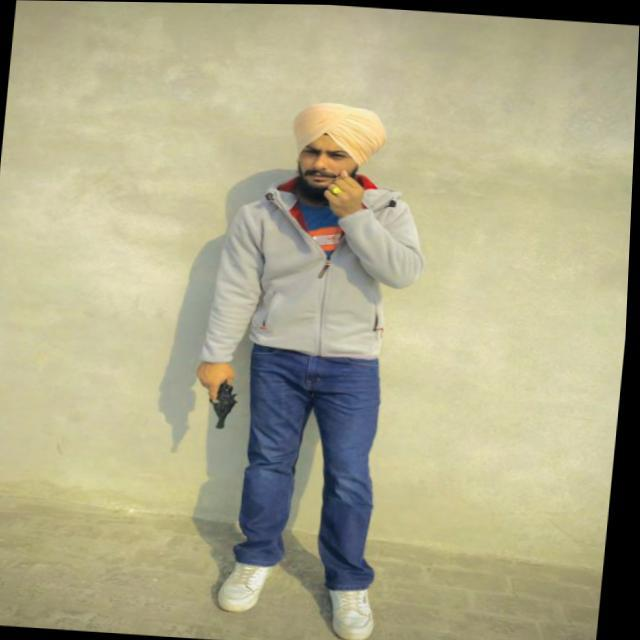weapon: (200, 374, 247, 432)
